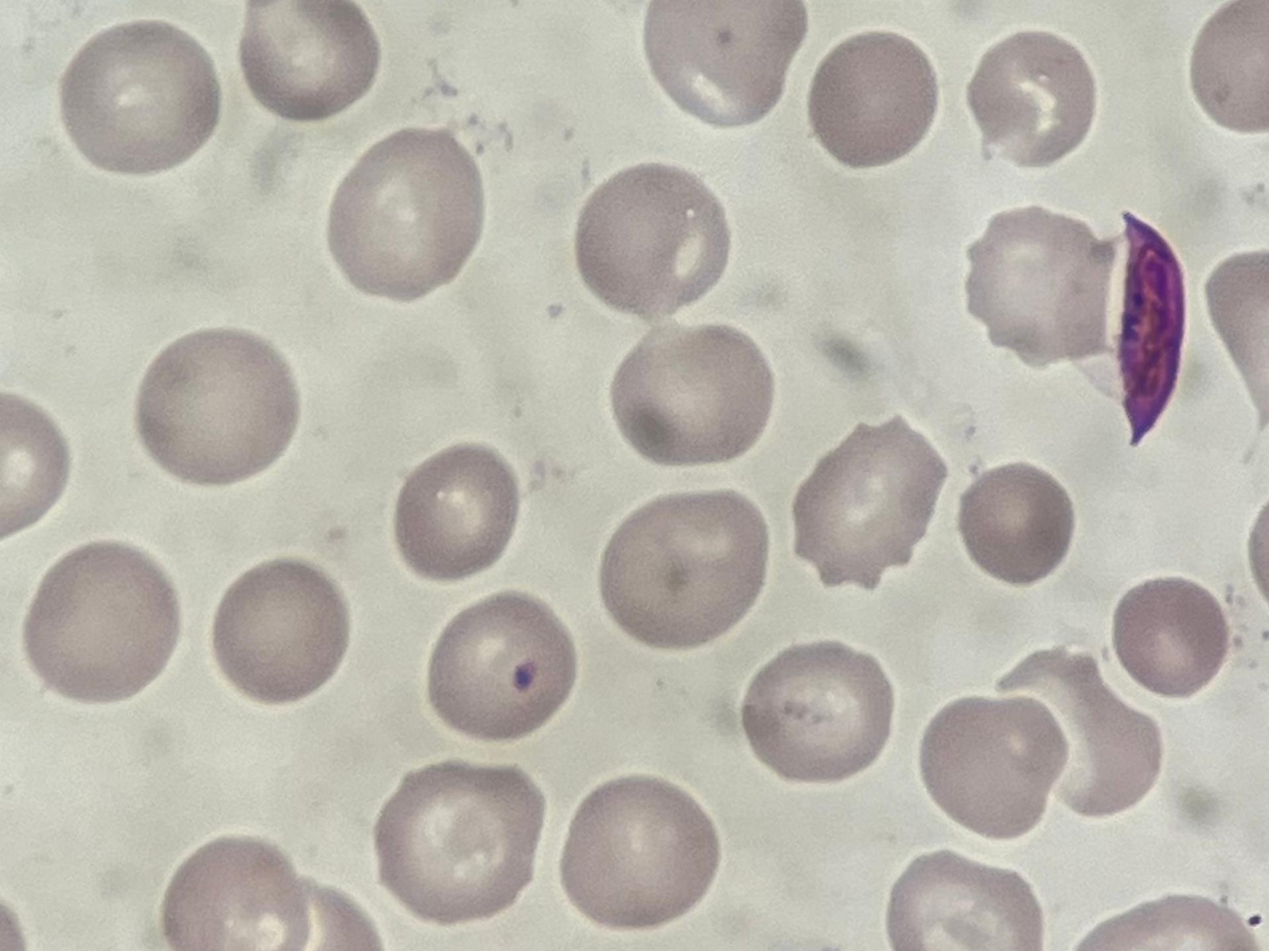Infected: (1062, 210, 1188, 448)
Uninfected: (373, 760, 543, 929), (993, 648, 1158, 821), (324, 126, 485, 299), (601, 484, 768, 649), (23, 539, 181, 705), (788, 423, 945, 587), (135, 326, 296, 483), (59, 20, 218, 175), (562, 774, 718, 931), (572, 166, 731, 316), (611, 326, 773, 468), (962, 205, 1102, 369), (919, 689, 1065, 845), (425, 598, 580, 739), (639, 0, 808, 126), (745, 641, 896, 781), (210, 562, 349, 703), (967, 27, 1097, 167), (396, 443, 518, 586), (236, 0, 377, 122), (160, 838, 312, 951), (813, 33, 936, 167), (884, 852, 1039, 951), (957, 463, 1075, 583), (1114, 575, 1227, 698)
